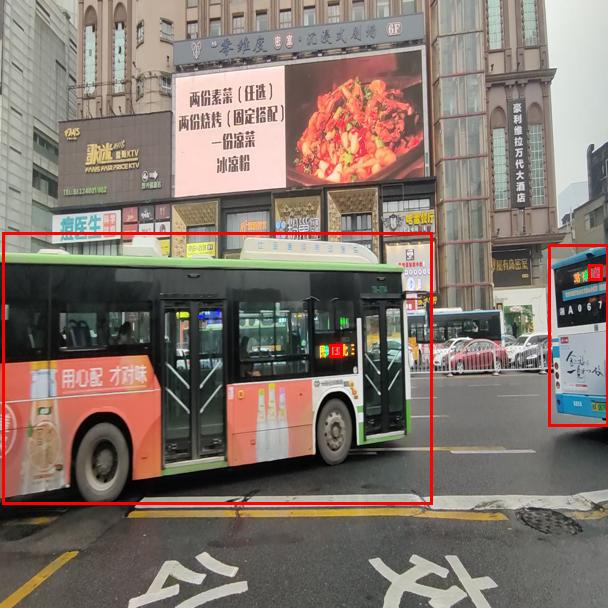bus: (2, 232, 432, 504), (548, 244, 608, 426)
screen: (588, 264, 602, 280), (329, 344, 342, 357)
